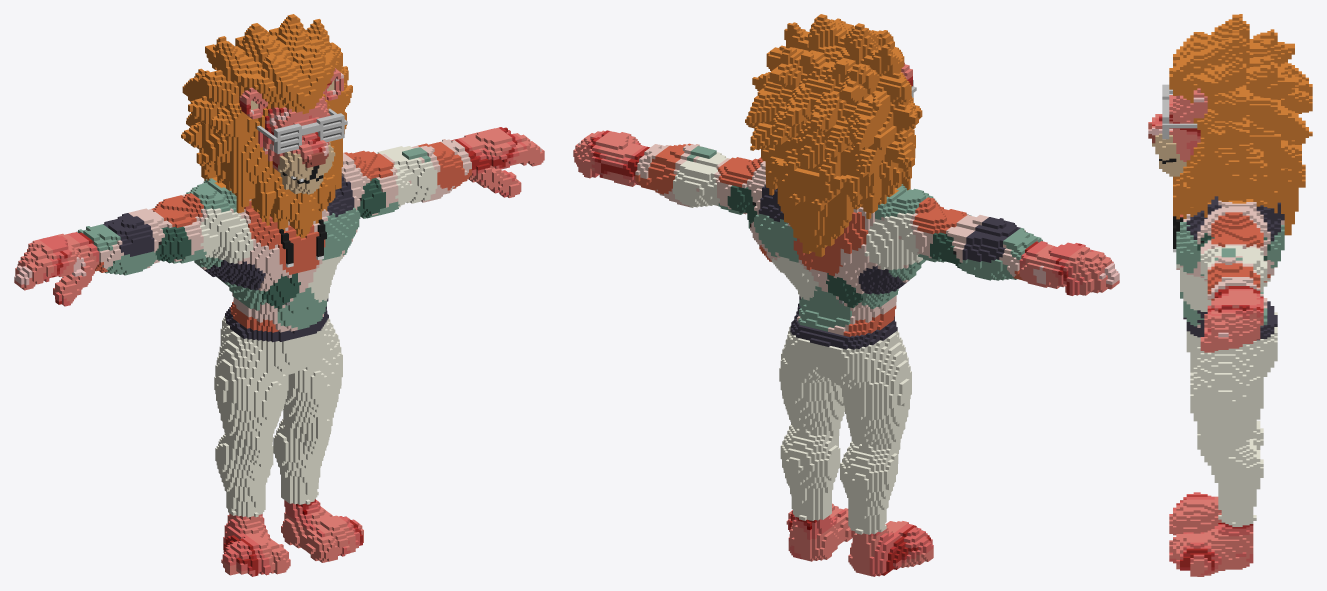
3 views of the same model, side by side, from view 1: azimuth 30°, elevation 25°; view 2: azimuth 150°, elevation 25°; view 3: azimuth 270°, elevation 25° (orthographic). The views are drawn at different scales.
Visible parts, largest first — view 1: smirk; view 2: smirk; view 3: smirk.
Boxes of the visible parts, left/top/right/bottom form: smirk: left=14, top=14, right=544, bottom=576; smirk: left=573, top=14, right=1119, bottom=576; smirk: left=1148, top=14, right=1312, bottom=576.
Bounding box in the file's own units: 17.2 × 16.5 × 4.7.
5 materials, 5 textured.
